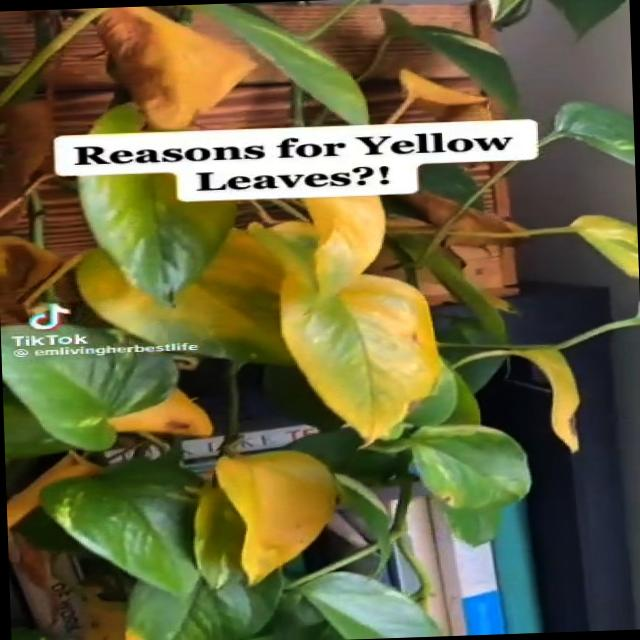lisc_przelany: (76, 236, 295, 369), (283, 275, 443, 446), (77, 173, 238, 299), (96, 6, 254, 132), (213, 451, 341, 588), (453, 347, 580, 454), (385, 425, 531, 516), (127, 568, 282, 640), (302, 196, 387, 293), (6, 450, 103, 528), (192, 487, 247, 592), (108, 388, 215, 439), (557, 215, 639, 280), (389, 69, 487, 123)
lisc_suchy: (96, 6, 258, 130), (399, 193, 524, 266), (0, 95, 58, 207), (0, 235, 66, 326)
roslina_przelana: (0, 163, 639, 640)
